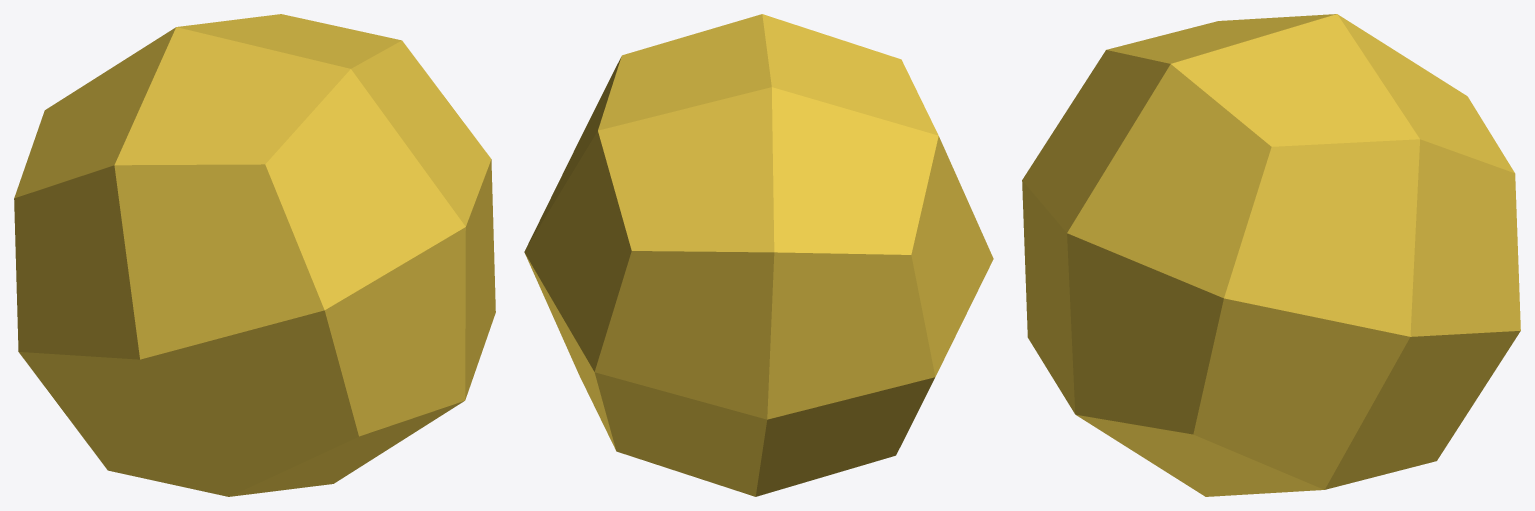
Rendered from MagicBallfbx.fbx.
The picture shows the model from 3 angles, left to right: view 1: azimuth 30°, elevation 25°; view 2: azimuth 150°, elevation 25°; view 3: azimuth 270°, elevation 25°; orthographic projection. The views are drawn at different scales.
Parts seen in each view (by area): view 1: Cube; view 2: Cube; view 3: Cube.
Part boxes in pixels (x1=…): Cube: x1=14, y1=14, x2=495, y2=496; Cube: x1=524, y1=14, x2=993, y2=496; Cube: x1=1022, y1=14, x2=1520, y2=496.
Bounding box in the file's own units: 41.72 × 40.42 × 41.78.
